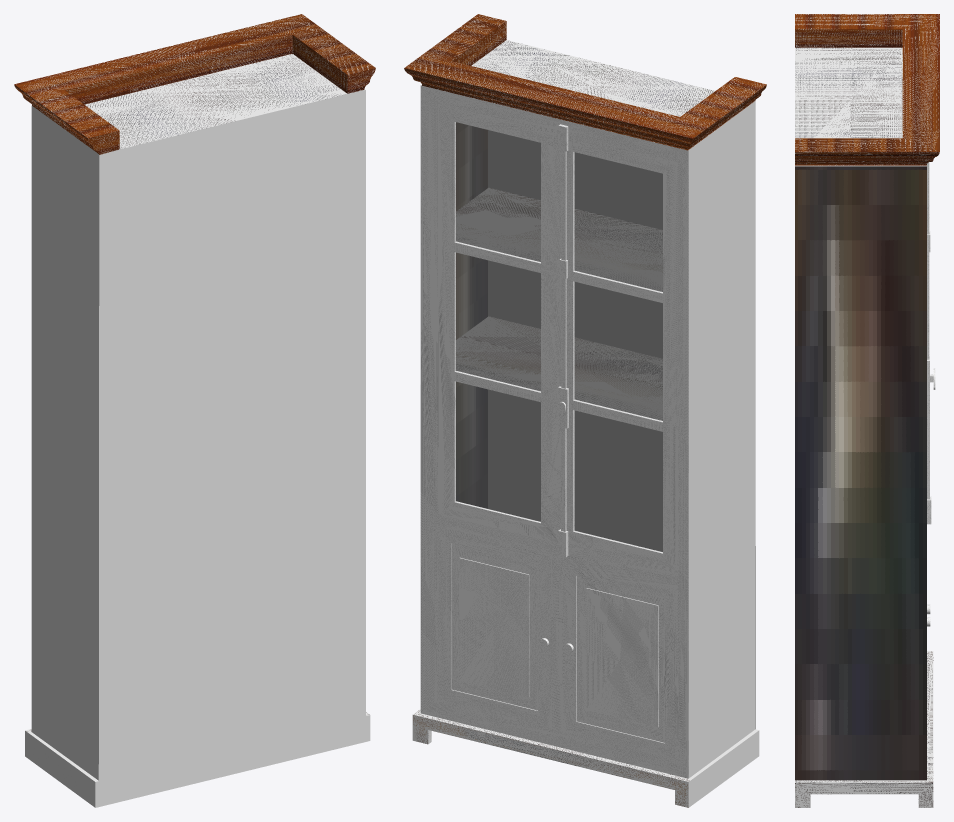
3 renders of one model, left to right at view 1: azimuth 30°, elevation 25°; view 2: azimuth 150°, elevation 25°; view 3: azimuth 270°, elevation 25°, orthographic. The views are drawn at different scales.
Visible parts, largest first — view 1: mesh1_mesh1-geometry; view 2: mesh1_mesh1-geometry, mesh9_mesh9-geometry, mesh10_mesh10-geometry; view 3: mesh1_mesh1-geometry.
Part boxes in pixels (x1,y1,x2,y2): mesh1_mesh1-geometry: [14, 14, 375, 807]; mesh1_mesh1-geometry: [404, 14, 766, 807]; mesh9_mesh9-geometry: [456, 317, 662, 420]; mesh10_mesh10-geometry: [456, 188, 662, 291]; mesh1_mesh1-geometry: [795, 14, 939, 807].
Bounding box in the file's own units: 0.4028 × 0.8977 × 0.1787.
